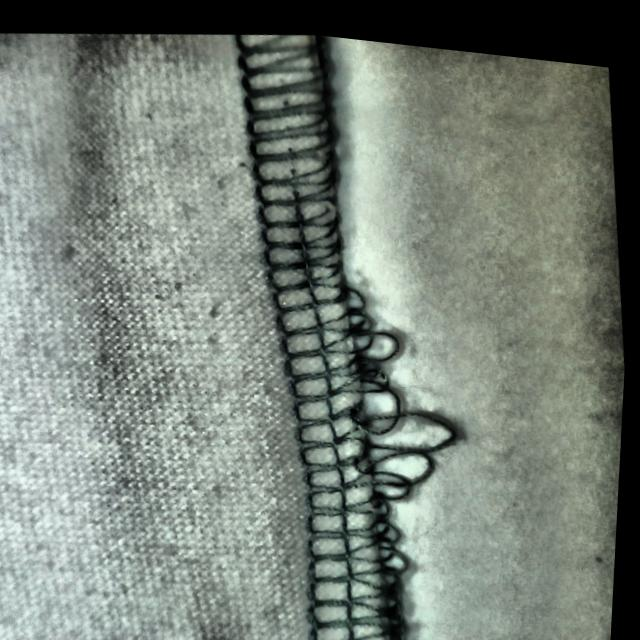Stitch: (256, 259, 486, 594)
